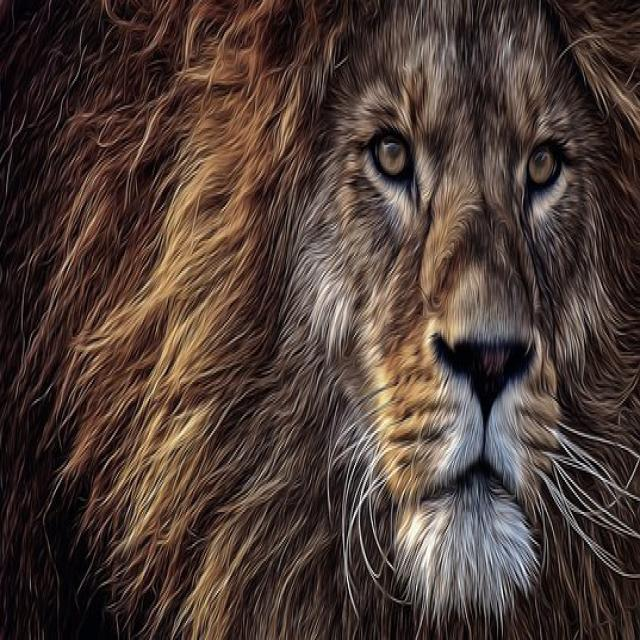Lion: (0, 0, 639, 638)
